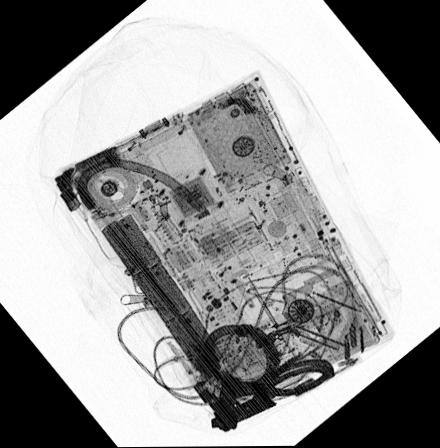HandCuffs: (198, 322, 336, 432)
